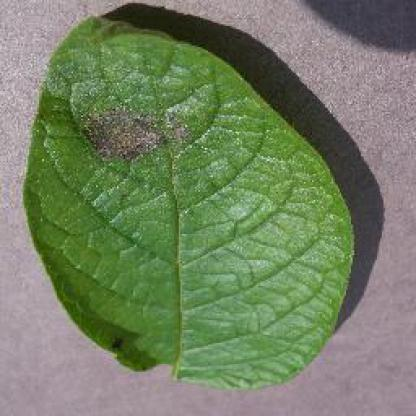bad leaf: (25, 127, 294, 403), (23, 0, 296, 199), (272, 130, 350, 400)
